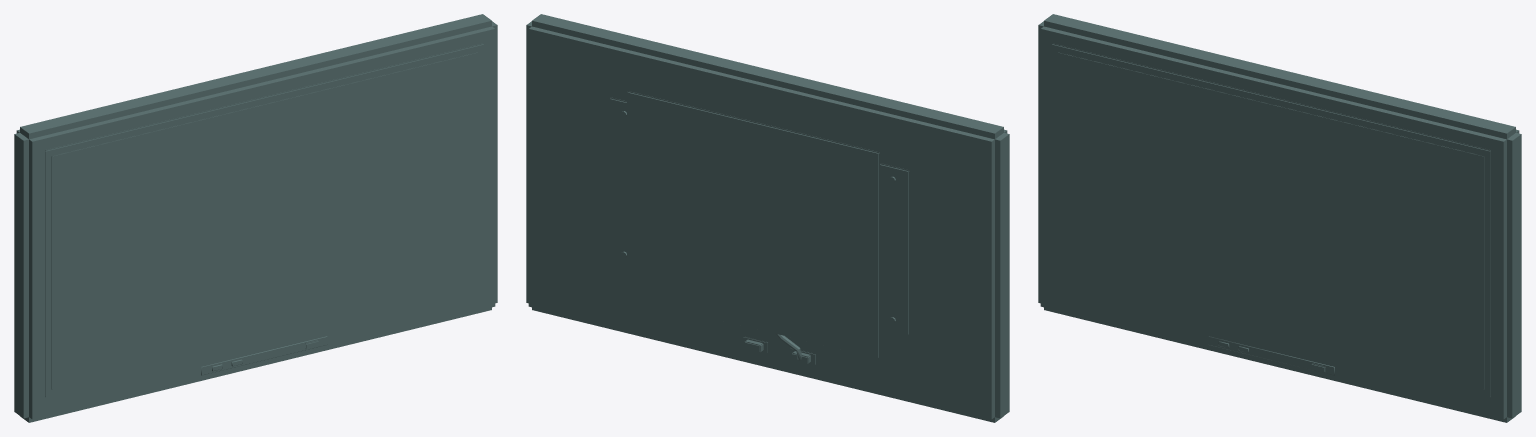
Rendered from OBJ-074_MonitorMural.fbx.
3 renders of one model, left to right at view 1: azimuth 30°, elevation 25°; view 2: azimuth 150°, elevation 25°; view 3: azimuth 330°, elevation 25°, orthographic.
Visible parts, largest first — view 1: GEO-OBJ-074_MonitorMural; view 2: GEO-OBJ-074_MonitorMural; view 3: GEO-OBJ-074_MonitorMural.
Boxes of the visible parts, <box> form: GEO-OBJ-074_MonitorMural: <box>14,14,497,422</box>; GEO-OBJ-074_MonitorMural: <box>526,14,1009,422</box>; GEO-OBJ-074_MonitorMural: <box>1038,14,1521,422</box>.
Size of the model in its own units: 1.2 by 0.7 by 0.107.
